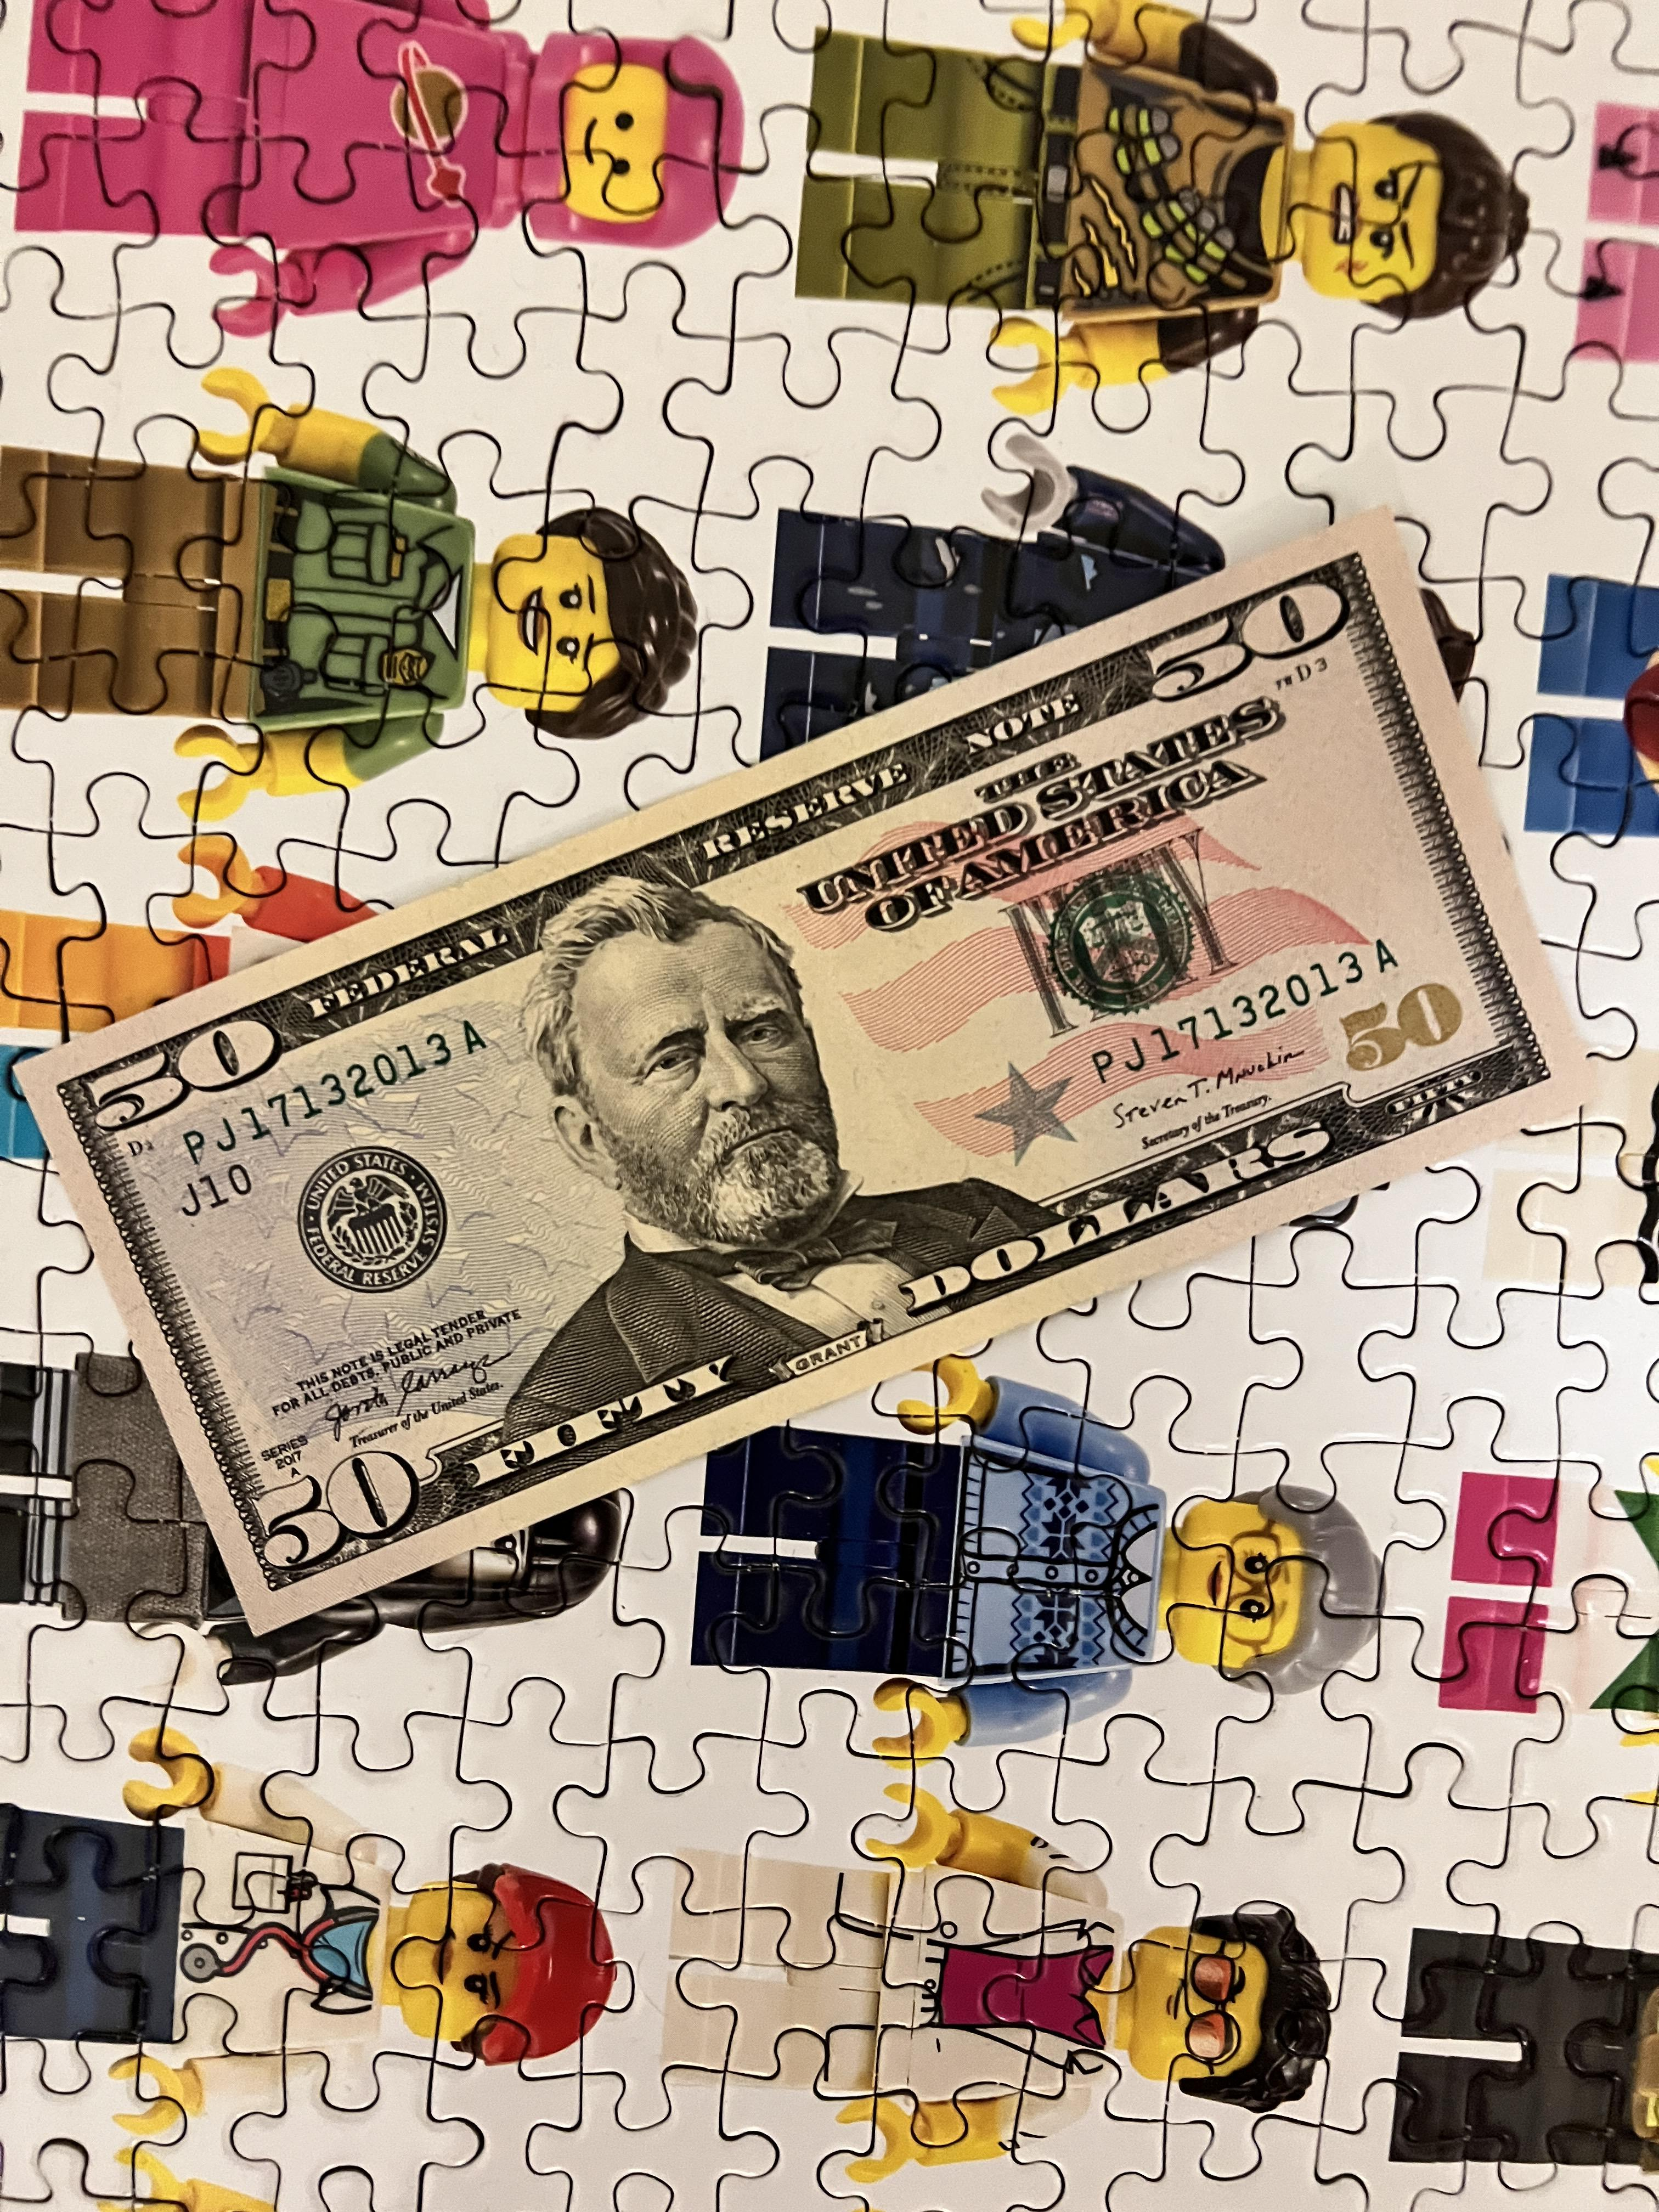FiftyBill: (10, 495, 1593, 1627)
